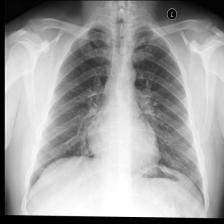normal: (21, 24, 212, 210)
